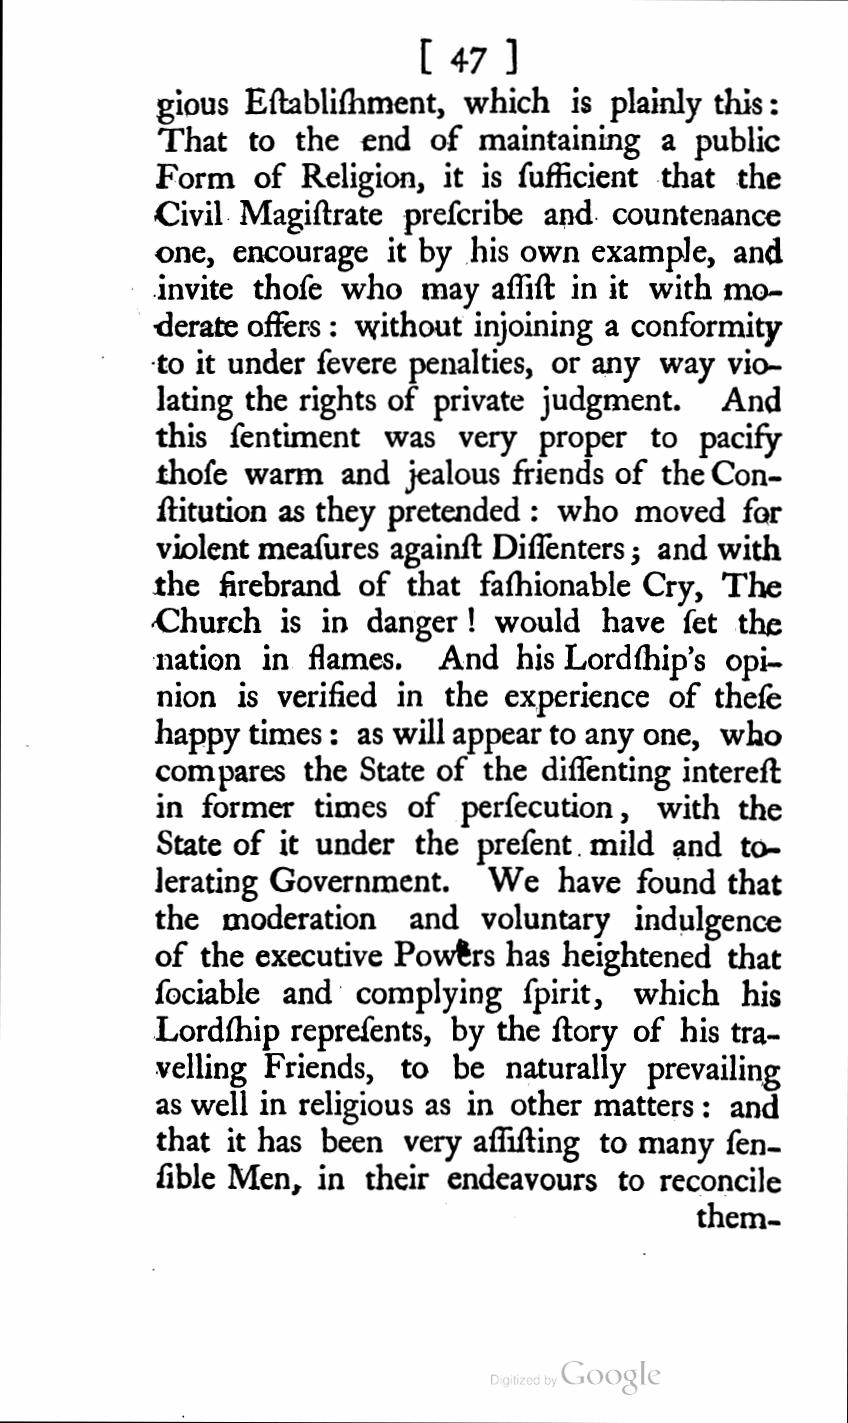catchword: (696, 1198, 784, 1238)
page_num: (448, 40, 488, 76)
top_p: (152, 80, 786, 1196)
